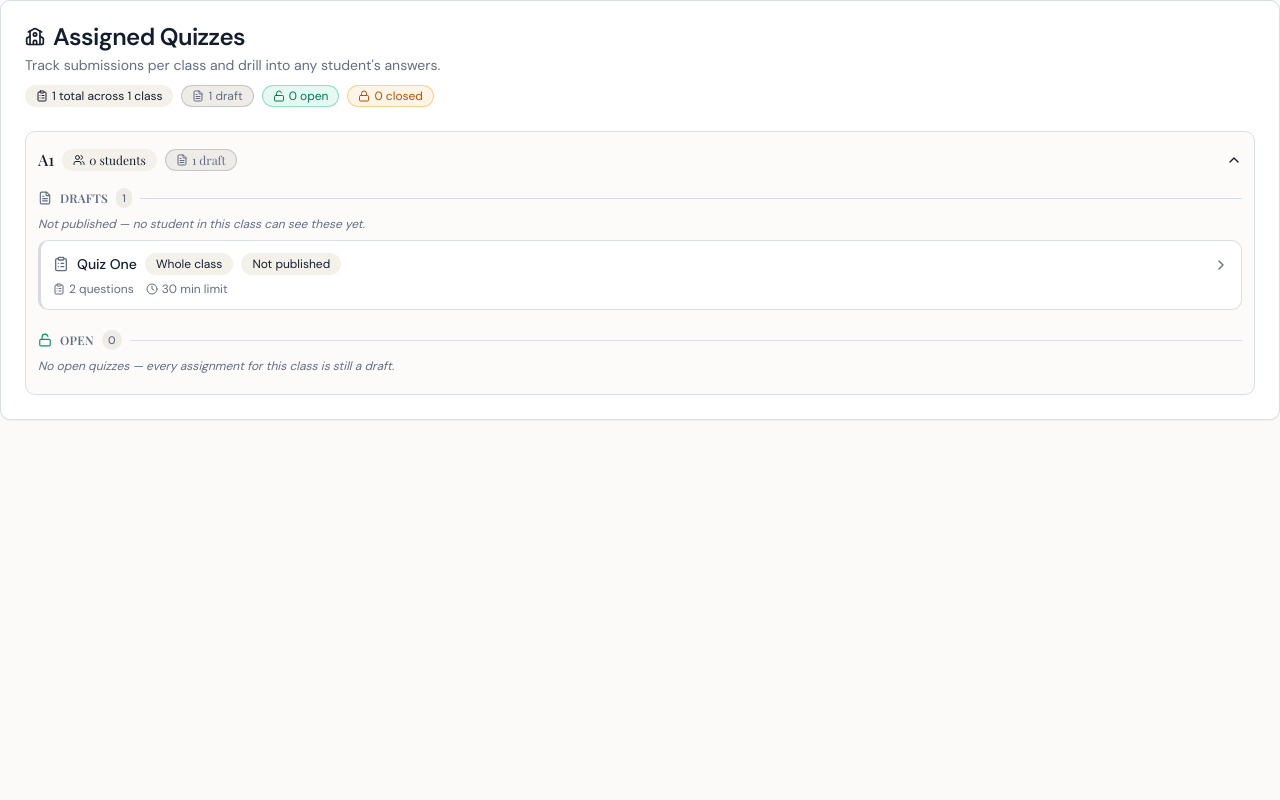
Test: AssignedQuizzesBoard › exposes inline due-date and time-limit editors when a quiz card is expanded
Expected: the text "A1" is shown, [38,148,54,172]
Expected: the text "Quiz One" is shown, [77,254,137,274]
// Expand the assignment card to reveal the settings editors.
Click the button "Quiz One Whole class Not published 2 questions 30 min limit" at (107, 264), box [41,241,1241,309]
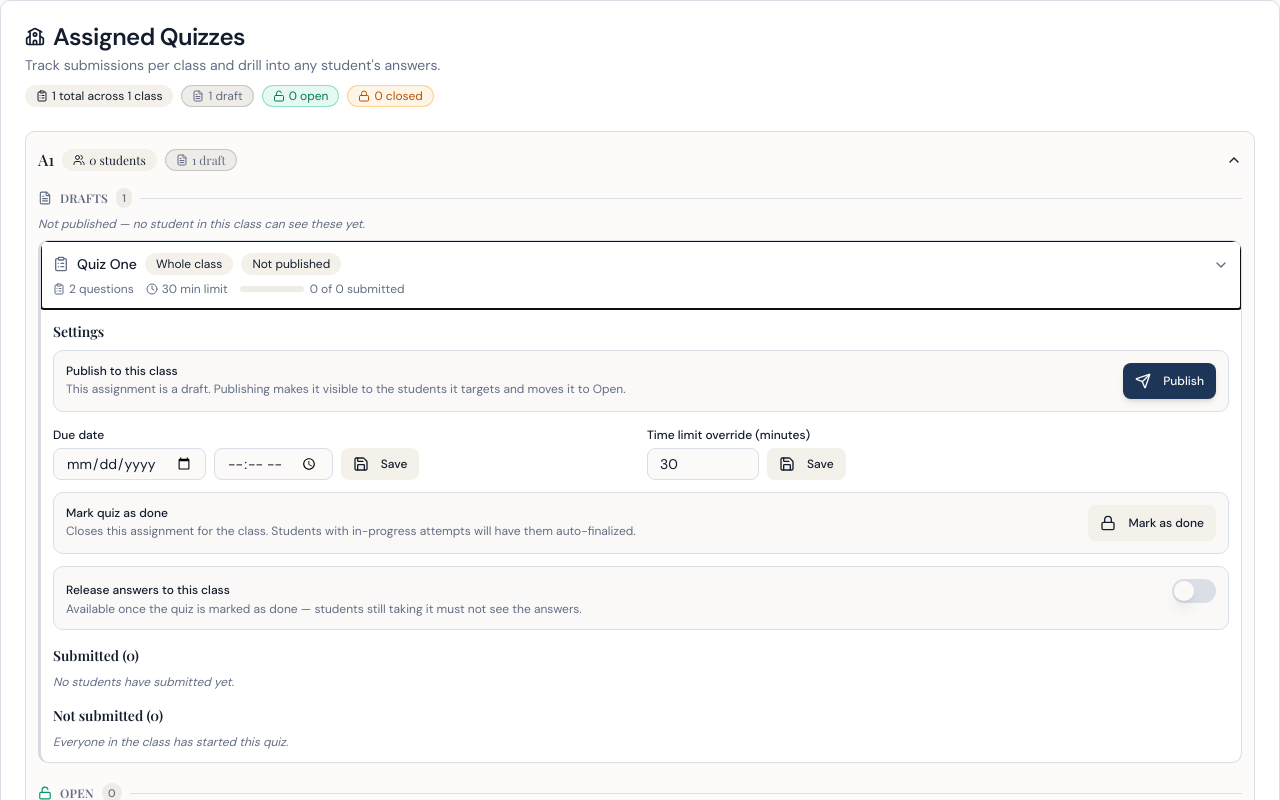
Expected: the date field labelled "Due date" is shown, [53,448,206,480]
Expected: the number field labelled "Time limit override (minutes)" holds "30", [647,448,759,480]
